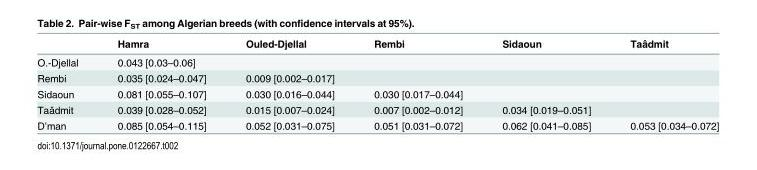table: (36, 36, 718, 130)
table column: (97, 36, 225, 130), (225, 36, 353, 130), (353, 36, 481, 130), (481, 36, 609, 130), (609, 36, 718, 130), (36, 36, 97, 130)
table column header: (36, 36, 718, 52)
table row: (36, 52, 718, 69), (36, 36, 718, 52), (36, 69, 718, 85), (36, 85, 718, 101), (36, 101, 718, 117), (36, 117, 718, 130)
